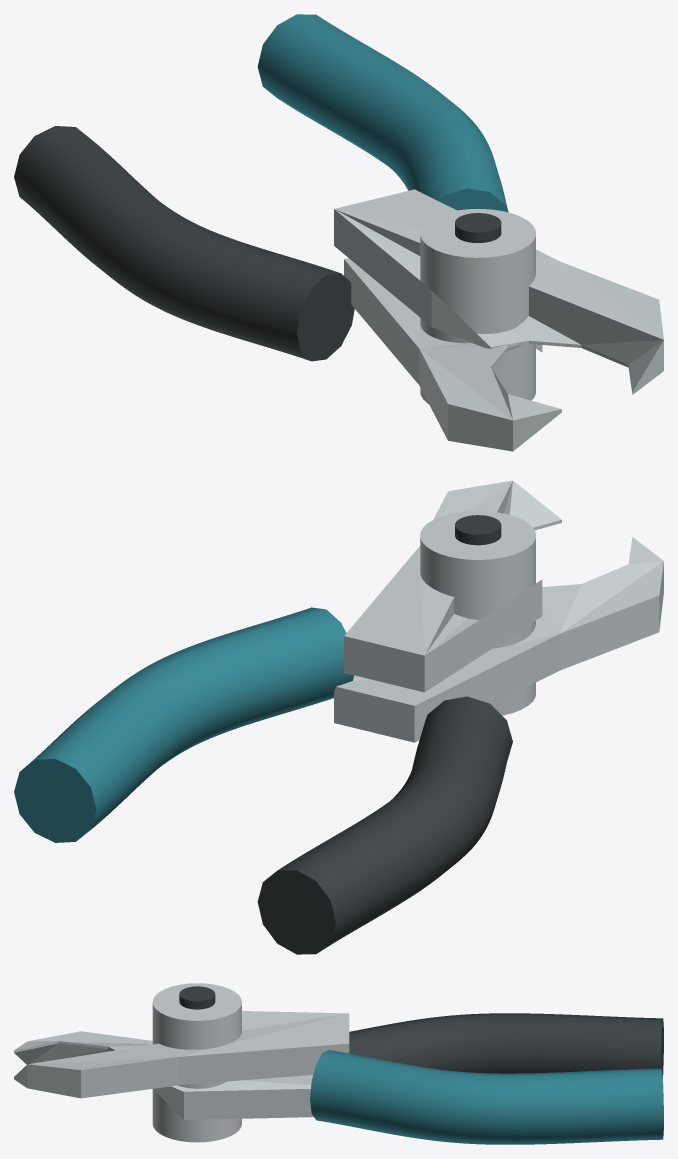
File: bicycle-shop-and-repair-cafe-cable-cutter-65935f91__32406.glb
3 views of the same model, one above another, from view 1: azimuth 30°, elevation 25°; view 2: azimuth 150°, elevation 25°; view 3: azimuth 270°, elevation 25° (orthographic). The views are drawn at different scales.
Visible parts, largest first — view 1: cable-cutter; view 2: cable-cutter; view 3: cable-cutter.
Boxes of the visible parts, left/top/right/bottom form: cable-cutter: left=14, top=14, right=663, bottom=451; cable-cutter: left=14, top=480, right=663, bottom=954; cable-cutter: left=14, top=983, right=663, bottom=1144.
Bounding box in the file's own units: 0.0693 × 0.034 × 0.1454.
